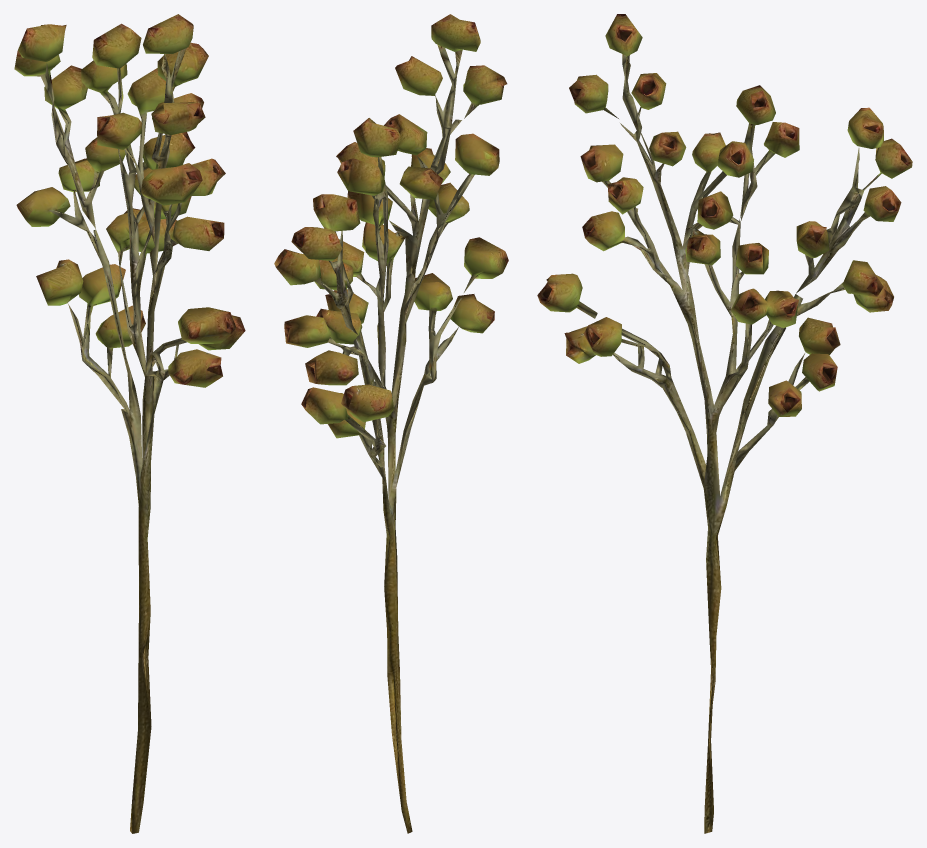
The model's file is GreenBerry.glb.
The picture shows the model from 3 angles, left to right: view 1: azimuth 30°, elevation 25°; view 2: azimuth 150°, elevation 25°; view 3: azimuth 270°, elevation 25°; orthographic projection. The views are drawn at different scales.
Parts seen in each view (by area): view 1: tripo_node_818ab20e-458d-4f5d-ab0e-b27717ec01a7; view 2: tripo_node_818ab20e-458d-4f5d-ab0e-b27717ec01a7; view 3: tripo_node_818ab20e-458d-4f5d-ab0e-b27717ec01a7.
Part boxes in pixels (box(x1,y1,x2,y2)): tripo_node_818ab20e-458d-4f5d-ab0e-b27717ec01a7: box(14, 14, 245, 833); tripo_node_818ab20e-458d-4f5d-ab0e-b27717ec01a7: box(274, 14, 508, 833); tripo_node_818ab20e-458d-4f5d-ab0e-b27717ec01a7: box(537, 14, 912, 833).
Bounding box in the file's own units: 0.1398 × 0.9966 × 0.4189.
Materials: 1 (1 with a texture image).
